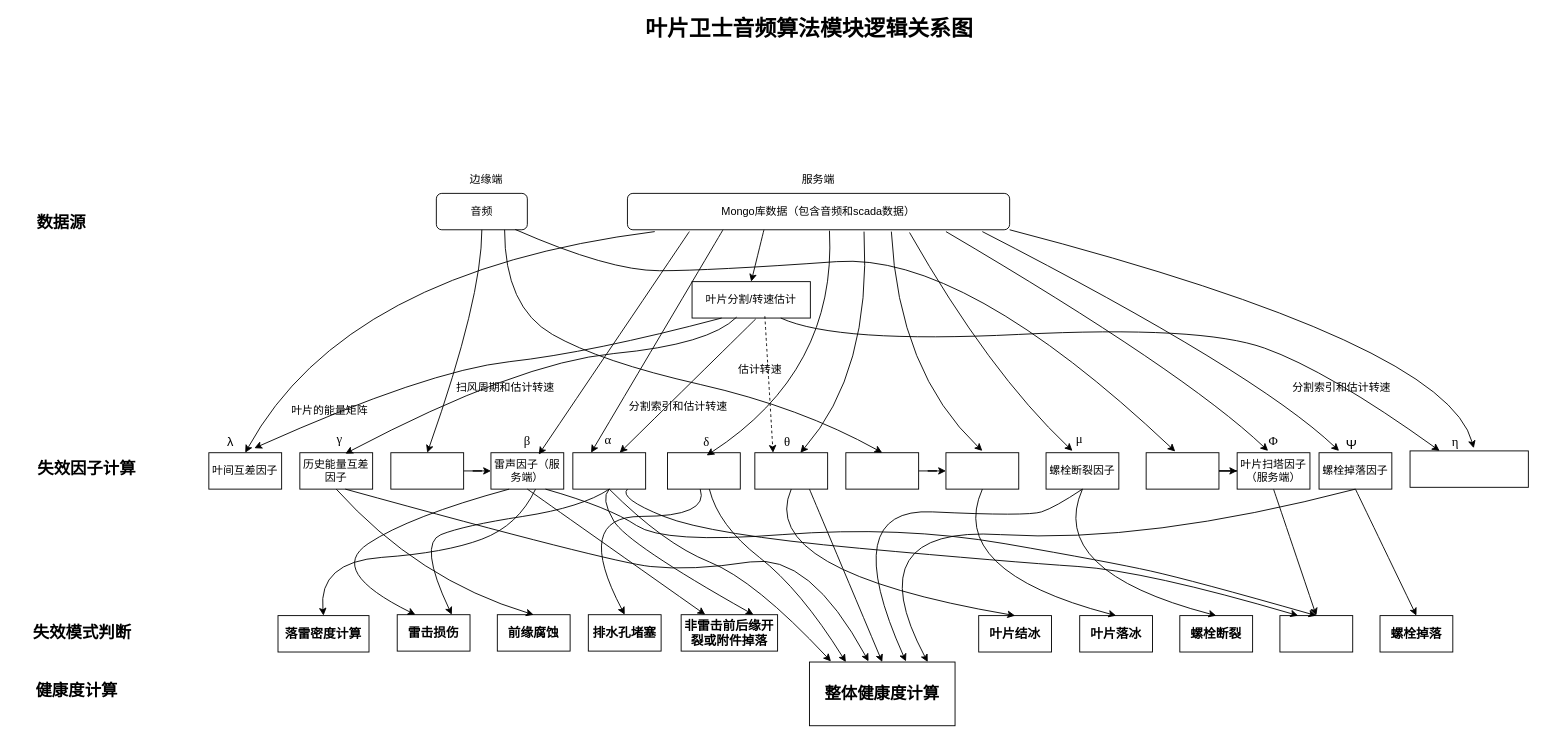
Image size: 1544x742. Some labels were removed from this diagram. The centre of each missing label's shape, as x and y in pixels:
信噪比因子: [1468,468]
叶片扫塔: [1316,633]
叶片扫塔（边缘端）: [1182,470]
哨声因子: [703,470]
结冰因子: [791,470]
能量互差因子: [609,470]
落冰因子（服务端）: [982,470]
落冰因子（边缘端）: [882,470]
雷声因子（边缘端）: [427,470]
